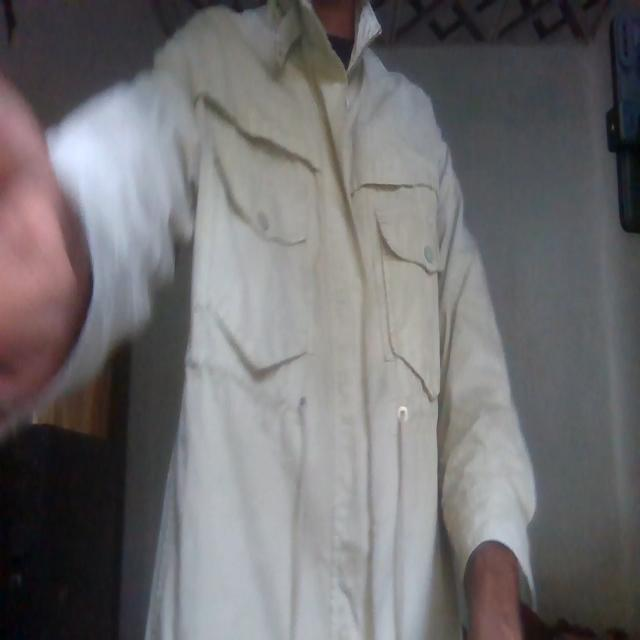Jacket_Wearer: (62, 5, 542, 639)
Person: (0, 0, 566, 640)
